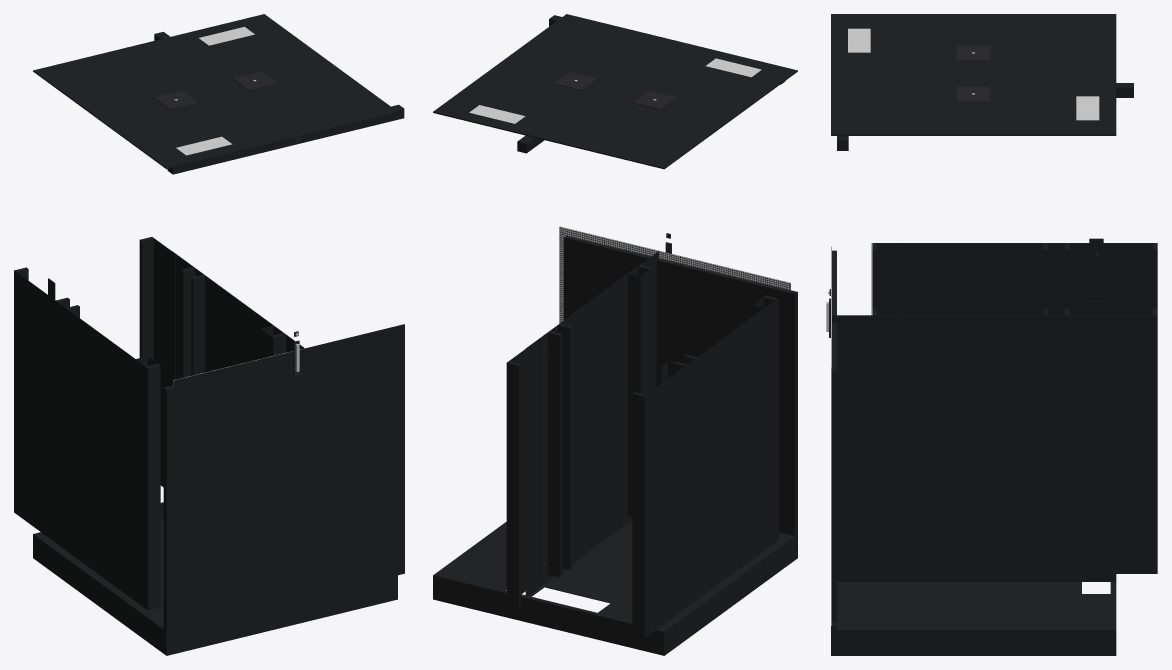
The model's file is CABINET.kit.glb.
3 views of the same model, side by side, from view 1: azimuth 30°, elevation 25°; view 2: azimuth 150°, elevation 25°; view 3: azimuth 270°, elevation 25° (orthographic). The views are drawn at different scales.
Parts seen in each view (by area): view 1: door:solid:infill, door:solid, path:vertical:left:full, top:brush, base:plinth, path:vertical:right:full, door:glass, path:vertical:left:front:cover, path:vertical:left:front, path:vertical:left:rear, path:vertical:right:rear, beam:width (+3 smaller); view 2: path:vertical:left:full, top:brush, path:vertical:right:full, base:plinth, door:solid, path:vertical:right:rear, door:glass, path:vertical:right:front, door:perforated:infill, pdu:bracket, path:vertical:left:rear, door:glass:stile (+6 smaller); view 3: side:panel:infill, top:brush, base:plinth, path:vertical:left:full, path:vertical:right:full, side:panel, door:glass, path:vertical:left:front, top:fans, path:vertical:left:rear, pdu:bracket, side:panel:edge (+2 smaller).
Part boxes in pixels (left/top/right/bottom): door:solid:infill: left=173, top=324, right=404, bottom=622; door:solid: left=165, top=334, right=397, bottom=630; path:vertical:left:full: left=14, top=267, right=159, bottom=609; top:brush: left=33, top=14, right=397, bottom=169; base:plinth: left=33, top=502, right=397, bottom=655; path:vertical:right:full: left=139, top=237, right=285, bottom=487; door:glass: left=163, top=334, right=397, bottom=631; path:vertical:left:front:cover: left=147, top=365, right=160, bottom=610; path:vertical:left:front: left=135, top=356, right=159, bottom=609; path:vertical:left:rear: left=55, top=297, right=79, bottom=550; path:vertical:right:rear: left=181, top=267, right=205, bottom=378; beam:width: left=167, top=104, right=404, bottom=174; path:vertical:left:full: left=632, top=296, right=778, bottom=638; top:brush: left=433, top=14, right=797, bottom=169; path:vertical:right:full: left=506, top=265, right=651, bottom=607; base:plinth: left=433, top=522, right=797, bottom=655; door:solid: left=563, top=237, right=795, bottom=535; path:vertical:right:rear: left=548, top=323, right=572, bottom=577; door:glass: left=563, top=236, right=797, bottom=535; path:vertical:right:front: left=628, top=265, right=652, bottom=516; door:perforated:infill: left=559, top=227, right=790, bottom=323; pdu:bracket: left=540, top=333, right=547, bottom=579; path:vertical:left:rear: left=673, top=354, right=697, bottom=607; door:glass:stile: left=788, top=292, right=795, bottom=535; side:panel:infill: left=832, top=315, right=1116, bottom=573; top:brush: left=831, top=14, right=1116, bottom=135; base:plinth: left=831, top=582, right=1116, bottom=655; path:vertical:left:full: left=872, top=243, right=1157, bottom=314; path:vertical:right:full: left=872, top=308, right=1157, bottom=573; side:panel: left=837, top=452, right=1116, bottom=581; door:glass: left=832, top=250, right=836, bottom=622; path:vertical:left:front: left=872, top=243, right=898, bottom=308; top:fans: left=956, top=45, right=990, bottom=101; path:vertical:left:rear: left=1043, top=243, right=1069, bottom=314; pdu:bracket: left=1089, top=238, right=1103, bottom=301; side:panel:edge: left=849, top=574, right=1115, bottom=581.
Bounding box in the file's own units: 1.04 × 2.02 × 1.16.
8 materials, 2 textured.
